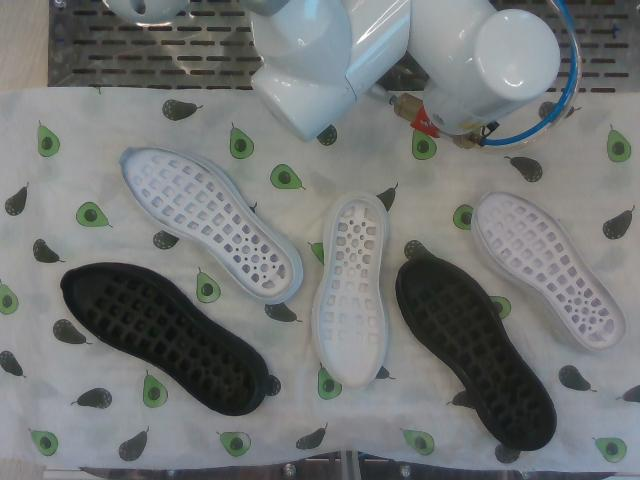shoes: (400, 258, 555, 449), (63, 267, 257, 412), (120, 147, 294, 298), (478, 191, 626, 351), (318, 199, 384, 389)
